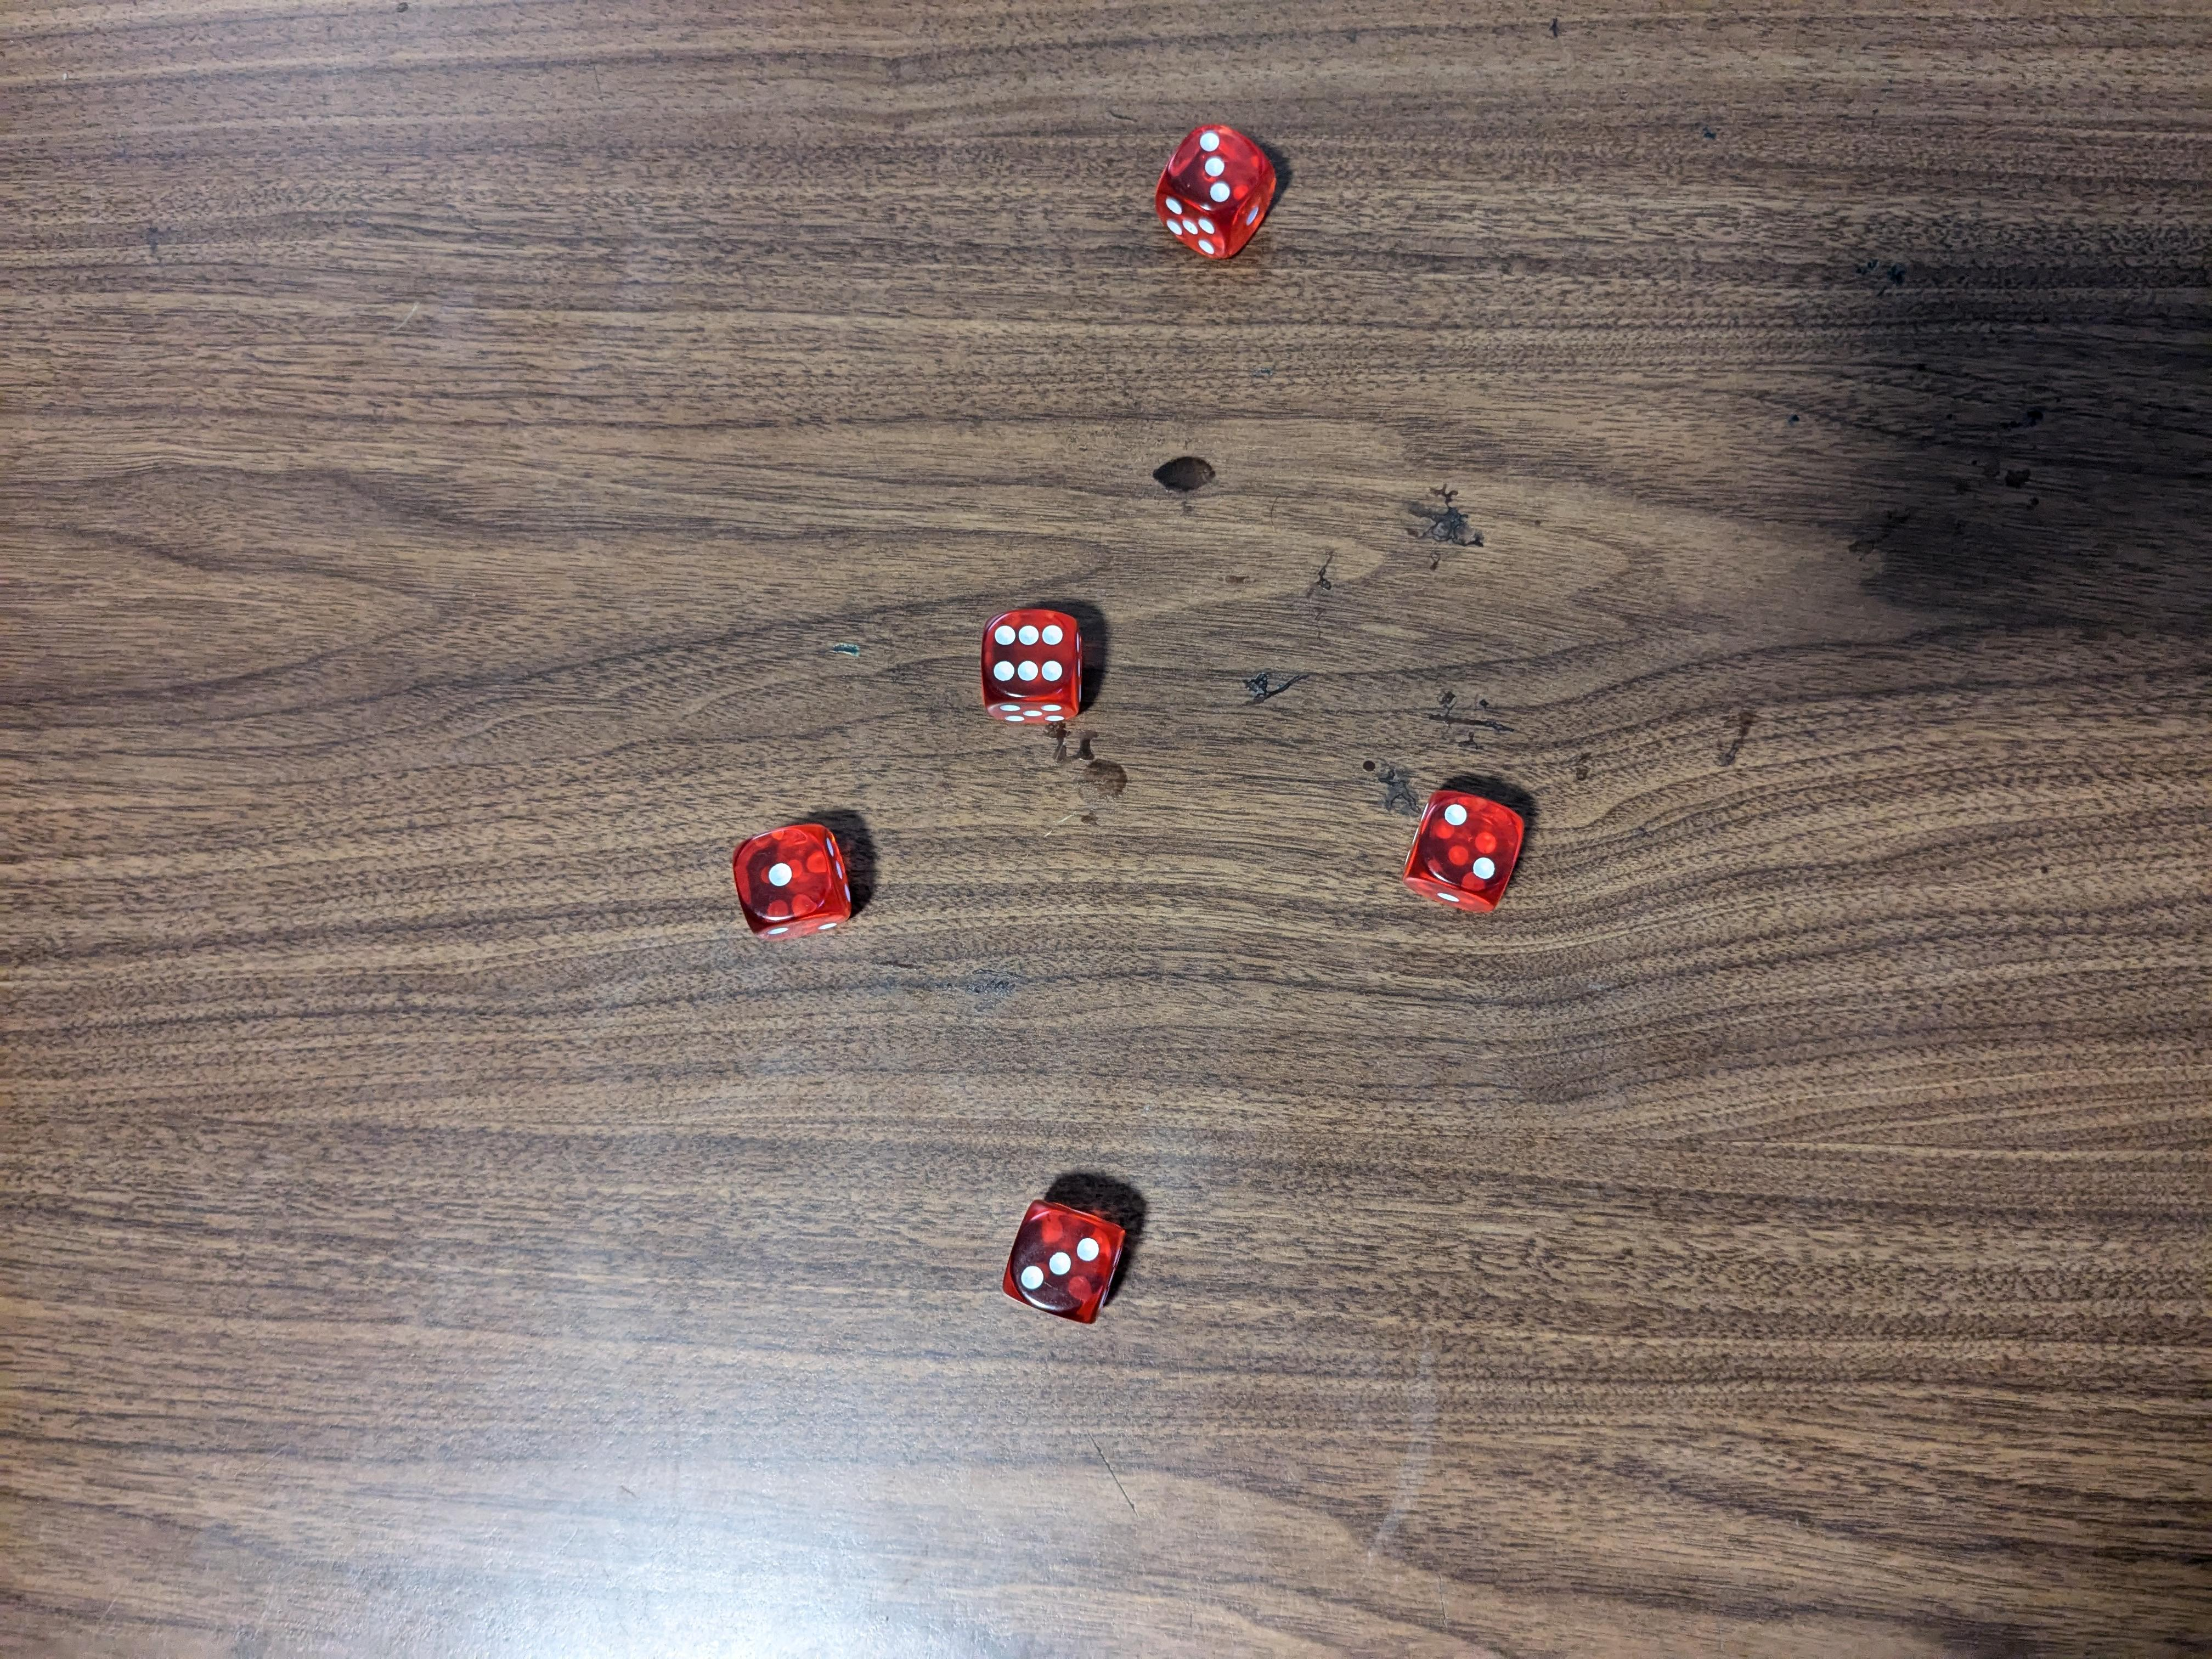one: (725, 817, 862, 939)
six: (982, 603, 1090, 723)
three: (1160, 115, 1284, 261), (1000, 1194, 1127, 1324)
two: (1404, 784, 1526, 920)
